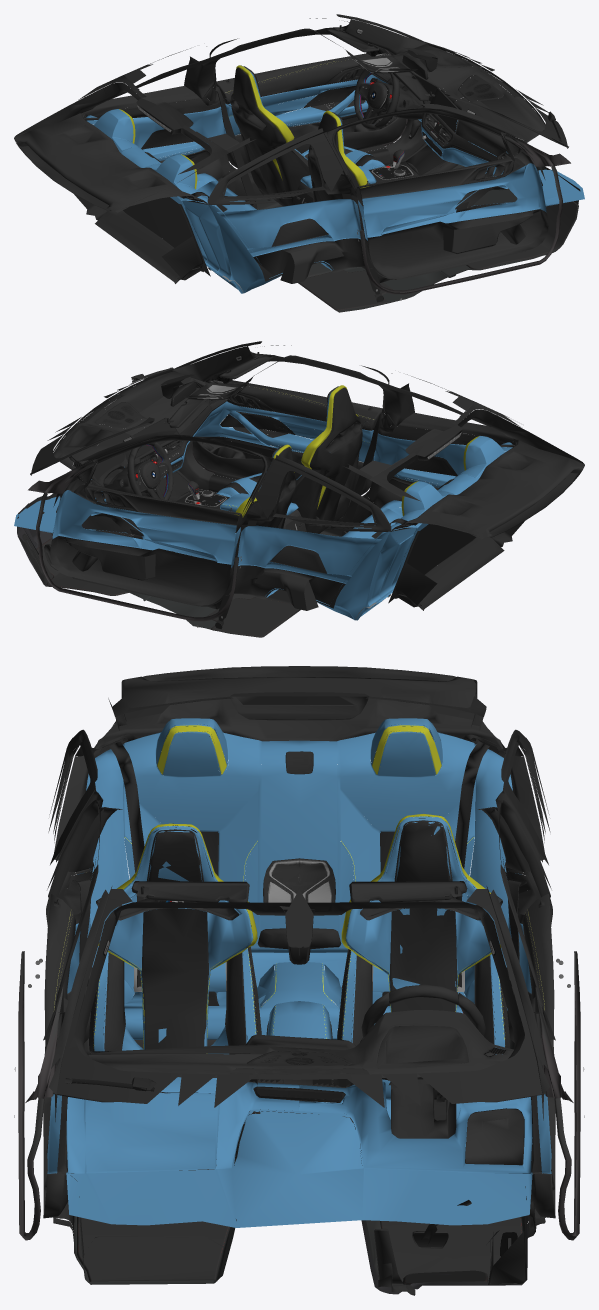
The model's file is m4_int.glb.
3 views of the same model, one above another, from view 1: azimuth 30°, elevation 25°; view 2: azimuth 150°, elevation 25°; view 3: azimuth 270°, elevation 25° (orthographic). The views are drawn at different scales.
Visible parts, largest first — view 1: body; view 2: body; view 3: body.
Boxes of the visible parts, <box> form: body: <box>14,14,584,312</box>; body: <box>14,341,584,637</box>; body: <box>14,666,584,1295</box>.
Size of the model in its own units: 2.91 by 1.17 by 1.73.
Materials: 14 (8 with a texture image).
